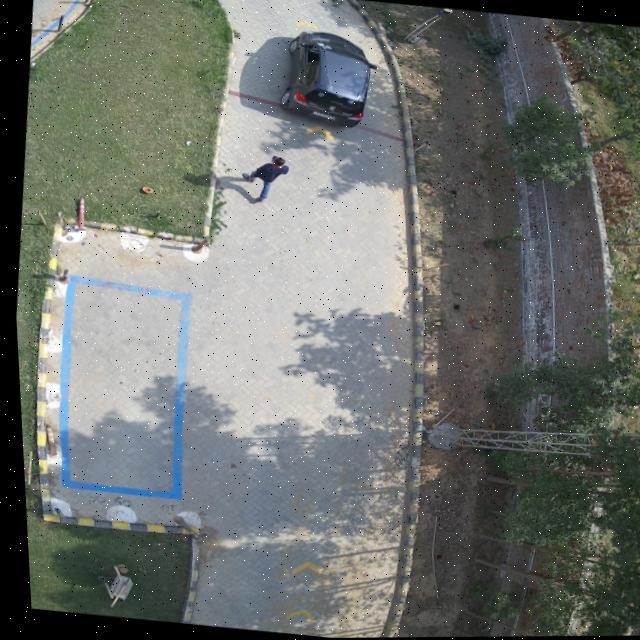car: (275, 32, 367, 129)
